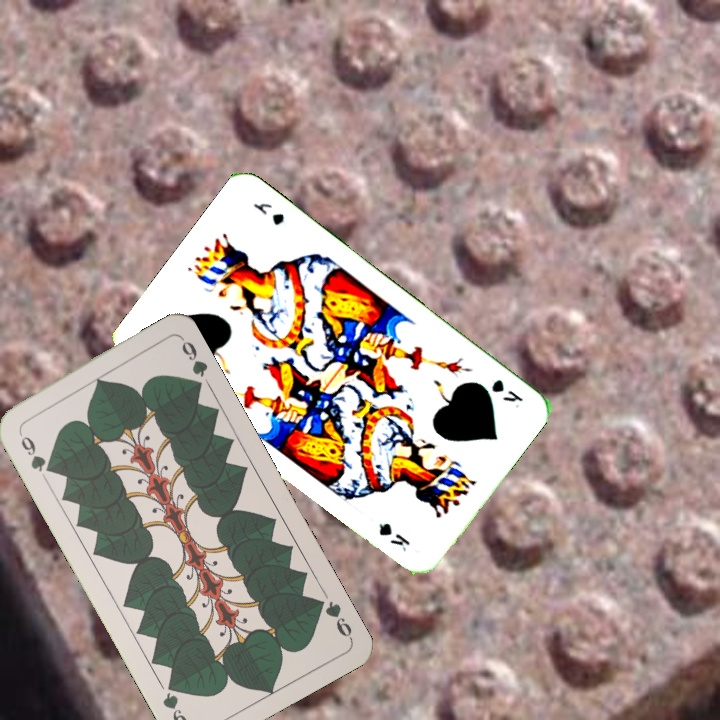G9: (310, 594, 355, 642), (14, 426, 56, 476)
GK: (487, 375, 526, 405)
